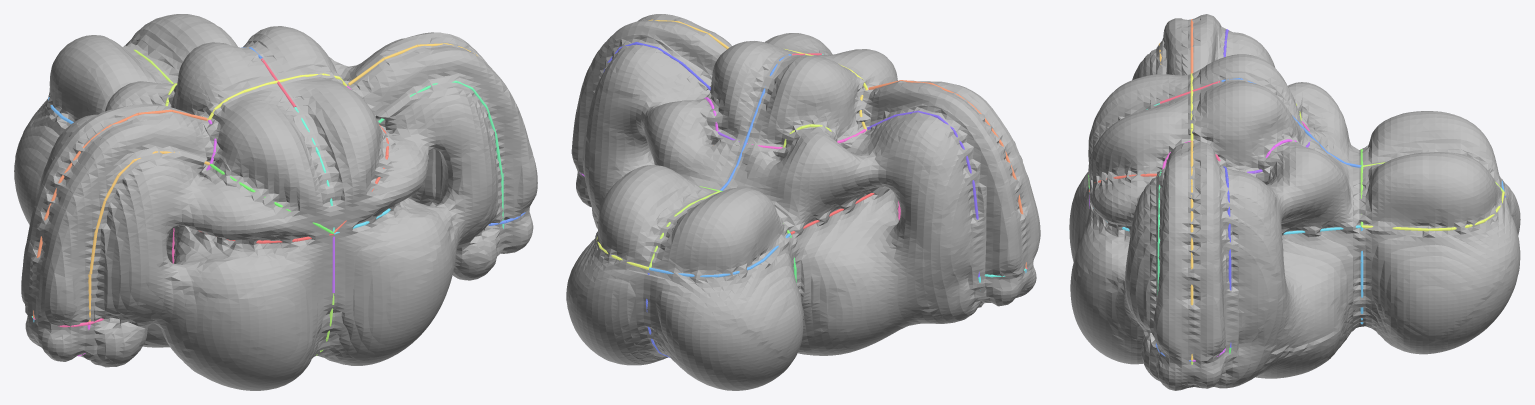
The model's file is scaffolds3d_dog.gltf.
The picture shows the model from 3 angles, left to right: view 1: azimuth 30°, elevation 25°; view 2: azimuth 150°, elevation 25°; view 3: azimuth 270°, elevation 25°; orthographic projection. The views are drawn at different scales.
Size of the model in its own units: 0.7255 by 0.4141 by 0.6335.
